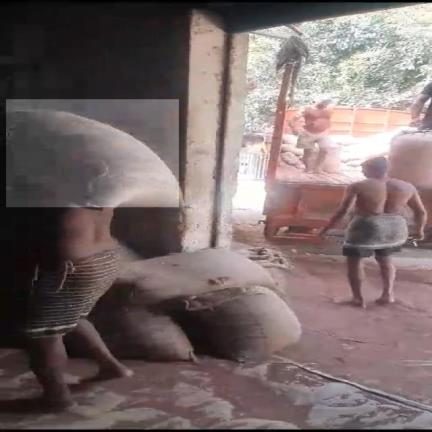Zone-Counting: (6, 109, 178, 409)
